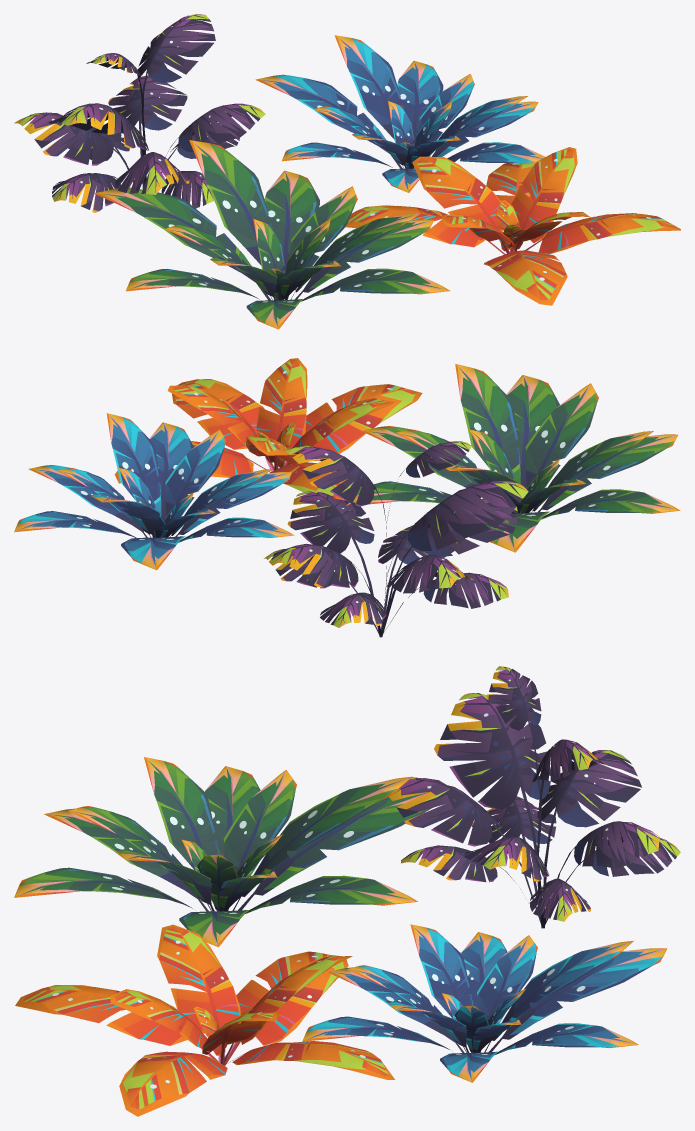
File: Plants_03.fbx
The picture shows the model from 3 angles, top to bottom: view 1: azimuth 30°, elevation 25°; view 2: azimuth 150°, elevation 25°; view 3: azimuth 270°, elevation 25°; orthographic projection. The views are drawn at different scales.
Visible parts, largest first — view 1: Plant_03_Green, Plant_01_Purple, Plant_04_Orange, Plant_03_Blue; view 2: Plant_01_Purple, Plant_03_Green, Plant_03_Blue, Plant_04_Orange; view 3: Plant_03_Green, Plant_01_Purple, Plant_04_Orange, Plant_03_Blue.
Boxes of the visible parts, x1,y1,x2,y2 form: Plant_03_Green: (94,140,449,329); Plant_01_Purple: (14,14,265,212); Plant_04_Orange: (345,147,680,305); Plant_03_Blue: (255,35,544,192); Plant_01_Purple: (264,441,528,637); Plant_03_Green: (346,364,680,552); Plant_03_Blue: (14,413,294,570); Plant_04_Orange: (114,358,422,500); Plant_03_Green: (14,757,452,947); Plant_01_Purple: (389,666,680,928); Plant_04_Orange: (15,924,394,1116); Plant_03_Blue: (302,924,667,1082).
Bounding box in the file's own units: 1159 × 403 × 1069.
